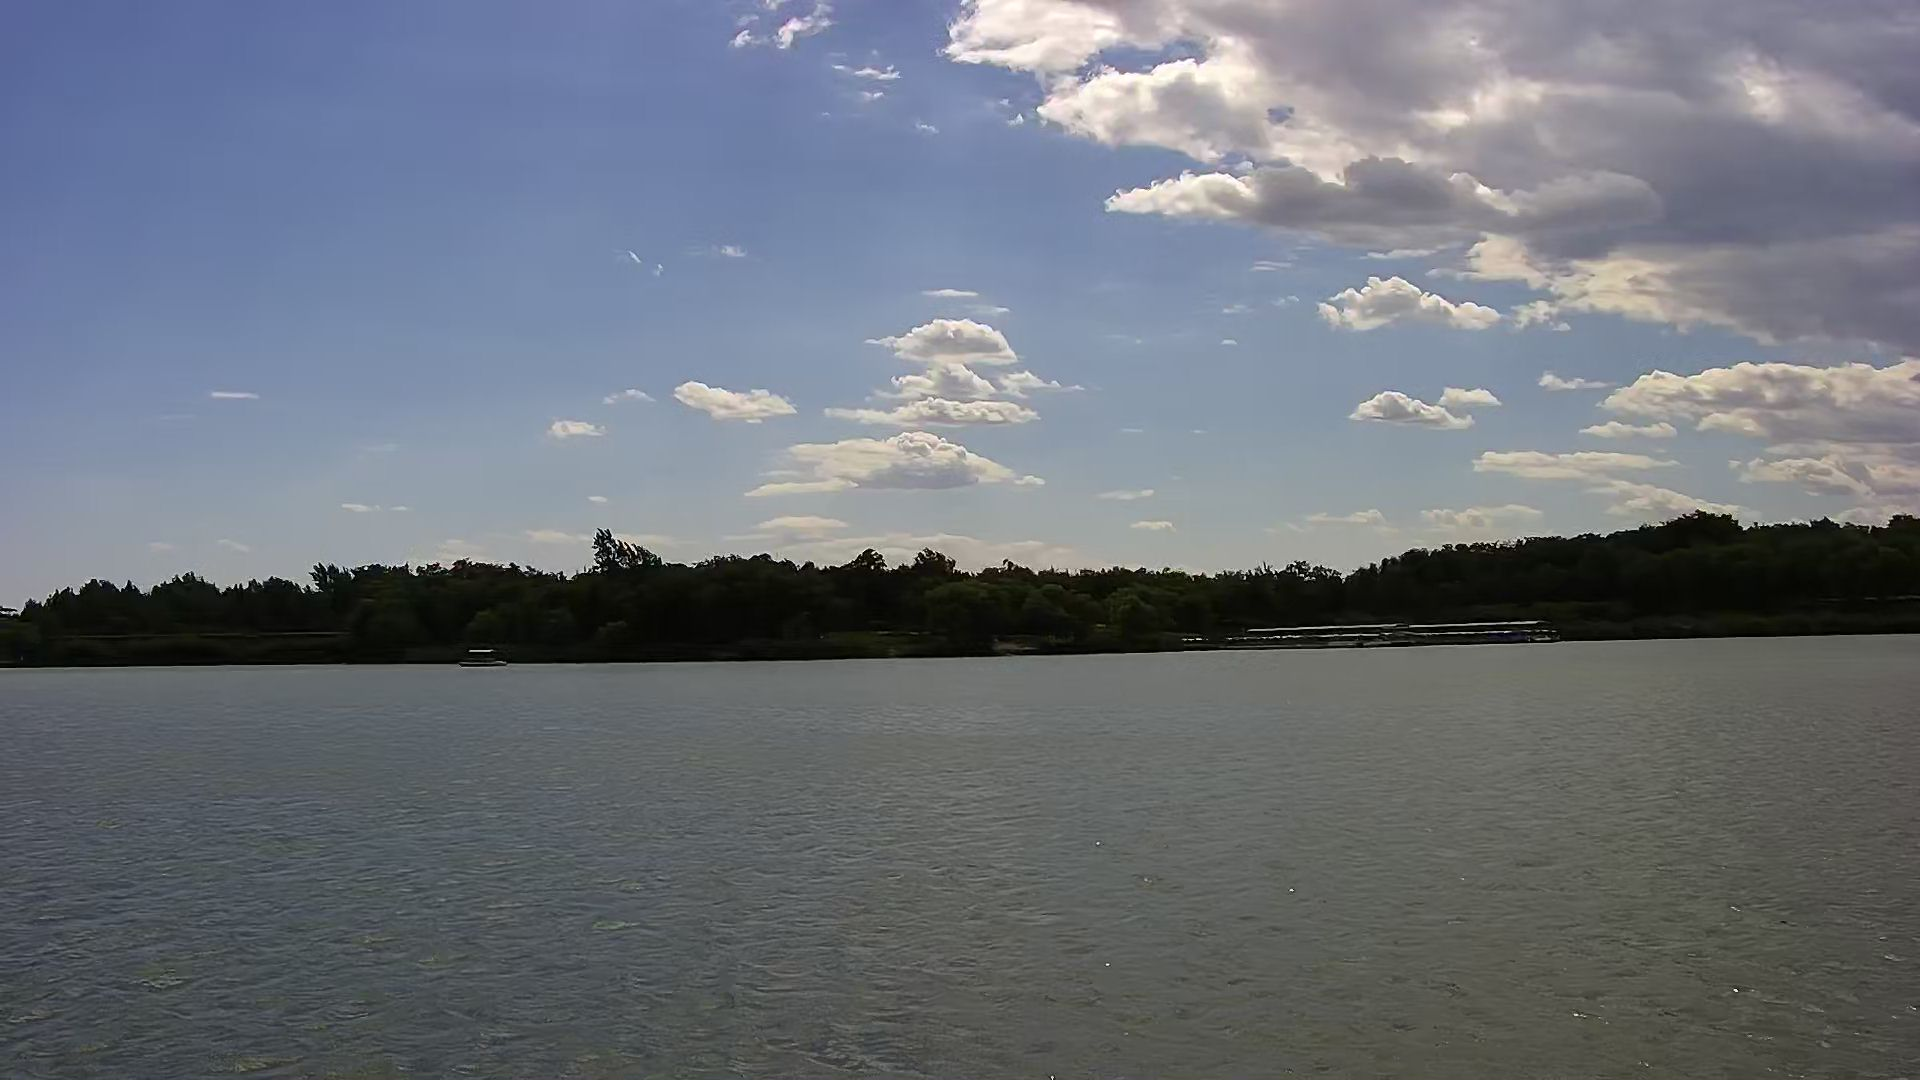boat: (454, 633, 513, 669)
harbor: (1212, 615, 1559, 651)
